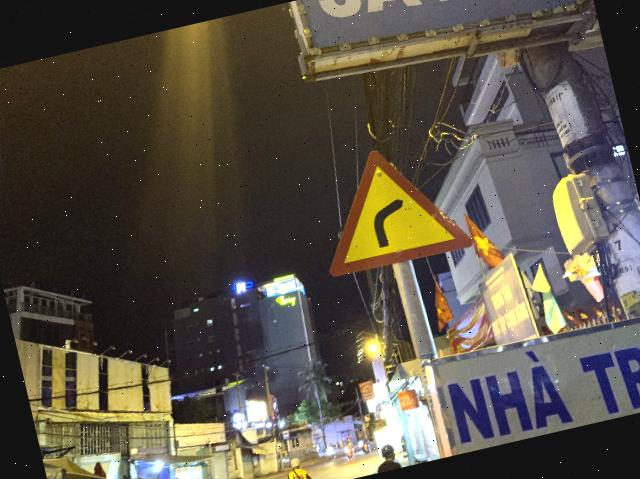cho-ngoat-nguy-hiem-ben-phai: (304, 130, 476, 278)
